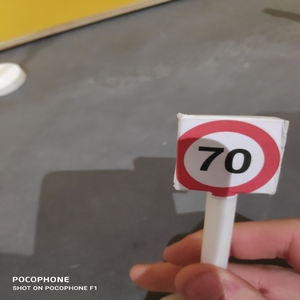70-bord: (173, 120, 282, 197)
